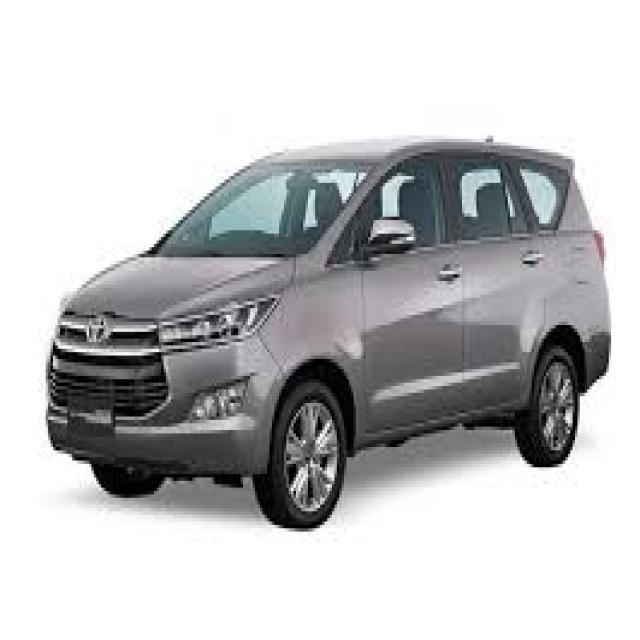light_vehicle: (46, 135, 613, 532)
